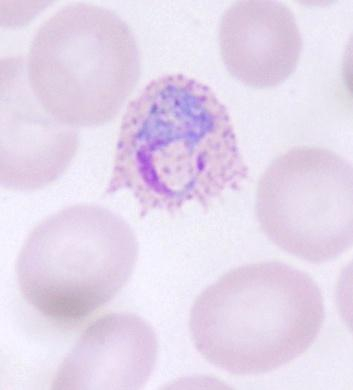Infected: (106, 72, 251, 210)
Uninfected: (188, 265, 324, 372), (14, 206, 139, 317), (29, 6, 135, 127), (256, 141, 353, 266), (0, 52, 84, 190), (48, 311, 157, 390), (216, 0, 303, 87)
